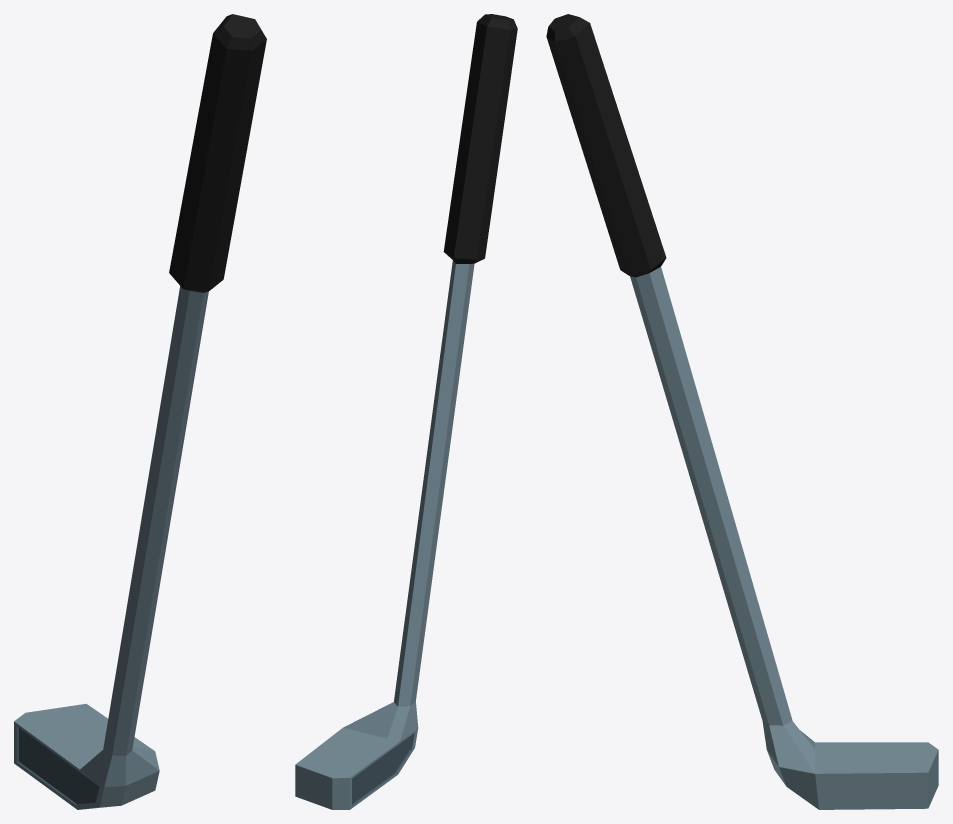
Rendered from Gulf_Club_01.obj.
3 views of the same model, side by side, from view 1: azimuth 30°, elevation 25°; view 2: azimuth 150°, elevation 25°; view 3: azimuth 270°, elevation 25° (orthographic). The views are drawn at different scales.
Parts seen in each view (by area): view 1: Gulfclub_Cube.036; view 2: Gulfclub_Cube.036; view 3: Gulfclub_Cube.036.
Part boxes in pixels (left/top/right/bottom): Gulfclub_Cube.036: left=14, top=14, right=266, bottom=809; Gulfclub_Cube.036: left=295, top=14, right=517, bottom=809; Gulfclub_Cube.036: left=546, top=14, right=938, bottom=809.
Bounding box in the file's own units: 1.43 × 14.98 × 6.93.
